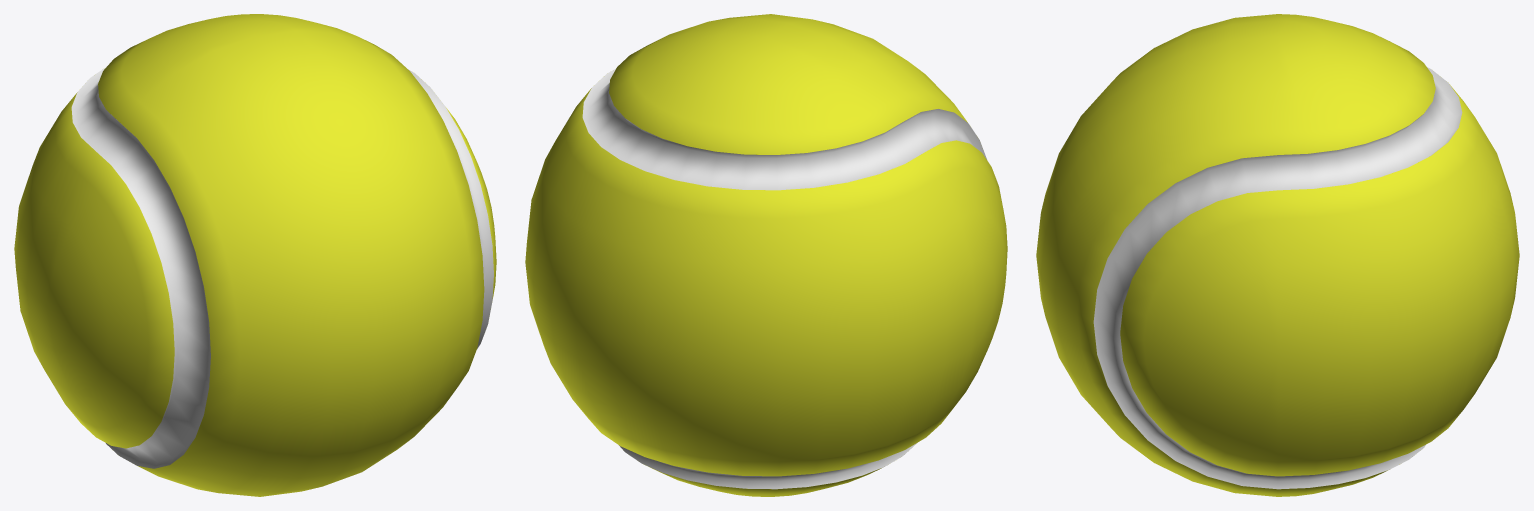
The model's file is tennis_ball02.glb.
3 views of the same model, side by side, from view 1: azimuth 30°, elevation 25°; view 2: azimuth 150°, elevation 25°; view 3: azimuth 270°, elevation 25° (orthographic).
Visible parts, largest first — view 1: Sphere; view 2: Sphere; view 3: Sphere.
Part boxes in pixels (x1,y1,x2,y2): Sphere: [14, 14, 496, 496]; Sphere: [525, 14, 1007, 496]; Sphere: [1036, 14, 1519, 496].
Size of the model in its own units: 2 by 2 by 2.
